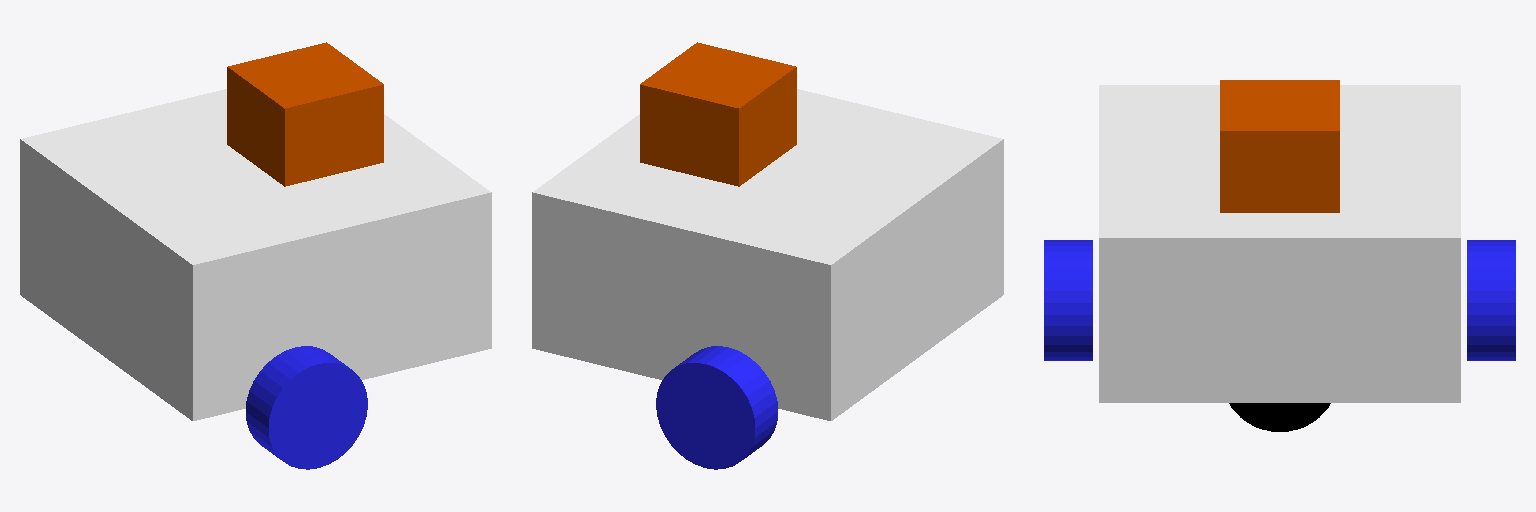
URDF robot description (robot):
<?xml version="1.0" ?>
<!-- =================================================================================== -->
<!-- |    This document was autogenerated by xacro from robot.urdf.xacro               | -->
<!-- |    EDITING THIS FILE BY HAND IS NOT RECOMMENDED                                 | -->
<!-- =================================================================================== -->
<robot name="robot">
  <!-- Specify some standard inertial calculations https://en.wikipedia.org/wiki/List_of_moments_of_inertia -->
  <!-- These make use of xacro's mathematical functionality -->
  <material name="white">
    <color rgba="1 1 1 1"/>
  </material>
  <material name="orange">
    <color rgba="1 0.3 0.1 1"/>
  </material>
  <material name="blue">
    <color rgba="0.2 0.2 1 1"/>
  </material>
  <material name="black">
    <color rgba="0 0 0 1"/>
  </material>
  <material name="red">
    <color rgba="1 0 0 1"/>
  </material>
  <!-- BASE LINK -->
  <link name="base_link">

    </link>
  <!-- CHASSIS LINK -->
  <joint name="chassis_joint" type="fixed">
    <parent link="base_link"/>
    <child link="chassis"/>
    <origin xyz="-0.1 0 0"/>
  </joint>
  <link name="chassis">
    <visual>
      <origin xyz="0.15 0 0.075"/>
      <geometry>
        <box size="0.3 0.3 0.15"/>
      </geometry>
      <material name="white"/>
    </visual>
    <collision>
      <origin xyz="0.15 0 0.075"/>
      <geometry>
        <box size="0.3 0.3 0.15"/>
      </geometry>
    </collision>
    <inertial>
      <origin rpy="0 0 0" xyz="0.15 0 0.075"/>
      <mass value="0.5"/>
      <inertia ixx="0.004687499999999999" ixy="0.0" ixz="0.0" iyy="0.004687499999999999" iyz="0.0" izz="0.0075"/>
    </inertial>
  </link>
  <gazebo reference="chassis">
    <material>Gazebo/White</material>
  </gazebo>
  <!-- LEFT WHEEL LINK -->
  <joint name="left_wheel_joint" type="continuous">
    <parent link="base_link"/>
    <child link="left_wheel"/>
    <origin rpy="-1.5707963267948966 0 0" xyz="0 0.175 0"/>
    <axis xyz="0 0 1"/>
  </joint>
  <link name="left_wheel">
    <visual>
      <geometry>
        <cylinder length="0.04" radius="0.05"/>
      </geometry>
      <material name="blue"/>
    </visual>
    <collision>
      <geometry>
        <cylinder length="0.04" radius="0.05"/>
      </geometry>
    </collision>
    <inertial>
      <origin rpy="0 0 0" xyz="0 0 0"/>
      <mass value="0.1"/>
      <inertia ixx="7.583333333333335e-05" ixy="0.0" ixz="0.0" iyy="7.583333333333335e-05" iyz="0.0" izz="0.00012500000000000003"/>
    </inertial>
  </link>
  <gazebo reference="left_wheel">
    <material>Gazebo/Blue</material>
  </gazebo>
  <!-- RIGHT WHEEL LINK -->
  <joint name="right_wheel_joint" type="continuous">
    <parent link="base_link"/>
    <child link="right_wheel"/>
    <origin rpy="1.5707963267948966 0 0" xyz="0 -0.175 0"/>
    <axis xyz="0 0 -1"/>
  </joint>
  <link name="right_wheel">
    <visual>
      <geometry>
        <cylinder length="0.04" radius="0.05"/>
      </geometry>
      <material name="blue"/>
    </visual>
    <collision>
      <geometry>
        <cylinder length="0.04" radius="0.05"/>
      </geometry>
    </collision>
    <inertial>
      <origin rpy="0 0 0" xyz="0 0 0"/>
      <mass value="0.1"/>
      <inertia ixx="7.583333333333335e-05" ixy="0.0" ixz="0.0" iyy="7.583333333333335e-05" iyz="0.0" izz="0.00012500000000000003"/>
    </inertial>
  </link>
  <gazebo reference="right_wheel">
    <material>Gazebo/Blue</material>
  </gazebo>
  <!-- CASTER WHEEL LINK -->
  <joint name="caster_wheel_joint" type="fixed">
    <parent link="chassis"/>
    <child link="caster_wheel"/>
    <origin xyz="0.24 0 0"/>
  </joint>
  <link name="caster_wheel">
    <visual>
      <geometry>
        <sphere radius="0.05"/>
      </geometry>
      <material name="black"/>
    </visual>
    <collision>
      <geometry>
        <sphere radius="0.05"/>
      </geometry>
    </collision>
    <inertial>
      <origin rpy="0 0 0" xyz="0 0 0"/>
      <mass value="0.1"/>
      <inertia ixx="0.00010000000000000005" ixy="0.0" ixz="0.0" iyy="0.00010000000000000005" iyz="0.0" izz="0.00010000000000000005"/>
    </inertial>
  </link>
  <gazebo reference="caster_wheel">
    <material>Gazebo/Black</material>
    <mu1 value="0.001"/>
    <mu2 value="0.001"/>
  </gazebo>
  
  <gazebo>
    <plugin name="gazebo_ros_control" filename="libgazebo_ros_control.so">
      <controlPeriod>0.001</controlPeriod>
      <legacyModeNS>false</legacyModeNS>
    </plugin>
  </gazebo>
<!--######################################################################-->
<gazebo>
      <plugin name="diff_drive_controller" filename="libgazebo_ros_diff_drive.so">
        <legacyMode>false</legacyMode>
        <alwaysOn>true</alwaysOn>
        <updateRate>1000.0</updateRate>
        <leftJoint>left_wheel_joint</leftJoint>
        <rightJoint>right_wheel_joint</rightJoint>
        <wheelSeparation>0.35</wheelSeparation>
        <wheelDiameter>0.1</wheelDiameter>
        <wheelTorque>10</wheelTorque>
        <publishTf>1</publishTf>
        <odometryFrame>map</odometryFrame>
        <commandTopic>cmd_vel</commandTopic>
        <odometryTopic>odom</odometryTopic>
        <robotBaseFrame>base_link</robotBaseFrame>
        <wheelAcceleration>2.8</wheelAcceleration>
        <publishWheelJointState>true</publishWheelJointState>
        <publishWheelTF>false</publishWheelTF>
        <odometrySource>world</odometrySource>
        <rosDebugLevel>Debug</rosDebugLevel>
        <publishOdomTF>true</publishOdomTF>
      </plugin>
</gazebo>
<!--######################################################################-->

<!--################################### Ultrasonic sensor joint###################################-->
    <joint name="sonar_front_joint" type="fixed">
    <origin rpy="0 0 0" xyz="0.2 0 0.175"/>
      <parent link="chassis"/>
      <child link="base_sonar_front"/>
  </joint>
<!--################################### Ultrasonic sensor link###################################-->
  <link name="base_sonar_front">
      <!-- <collision>
        <origin xyz="0 0 0" rpy="0 0 0"/>
        <geometry>
          <box size="0.5 0.5 0.5"/>
        </geometry>
      </collision> -->
      <visual>
        <origin xyz="0 0 0" rpy="0 0 0"/>
        <geometry>
          <box size="0.1 0.1 0.1"/>
        </geometry>
      </visual>
       <!-- <inertial>
        <mass value="1e-5" />
        <origin xyz="0 0 0" rpy="0 0 0"/>
        <inertia ixx="1e-6" ixy="0" ixz="0" iyy="1e-6" iyz="0" izz="1e-6" />
      </inertial> -->
   </link>
  
  
  <!--################################### Ultrasonic sensor gazebo ###################################-->
    <gazebo reference="base_sonar_front">
   <sensor type="ray" name="TeraRanger">
      <pose>0 0 0 0 0 0</pose>
      <visualize>true</visualize>
      <update_rate>5</update_rate>
      <ray>
        <!--Add noise
        <noise>
          <type>gaussian</type>
          <mean>0.0</mean>
          <stddev>1.0</stddev>
        </noise>
      -->
         <scan>
            <horizontal>
               <samples>10</samples>
               <resolution>1</resolution>
               <min_angle>-0.14835</min_angle>
               <max_angle>0.14835</max_angle>
            </horizontal>
            <vertical>
               <samples>10</samples>
               <resolution>1</resolution>
               <min_angle>-0.05</min_angle>
               <max_angle>0.14835</max_angle>
            </vertical>
         </scan>
         <range>
            <min>0.01</min>
            <max>5</max>
            <resolution>0.02</resolution>
         </range>
      </ray>
      <plugin filename="libgazebo_ros_range.so" name="gazebo_ros_range">
         <gaussianNoise>0.05</gaussianNoise>
         <alwaysOn>true</alwaysOn>
         <updateRate>5</updateRate>
         <topicName>sensor/sonar_front</topicName>
         <frameName>base_sonar_front</frameName>
         <radiation>INFRARED</radiation>
         <fov>0.2967</fov>
      </plugin>
   </sensor>
   </gazebo>
<!--######################################################################-->
</robot>

--- What the picture shows (computed from the rendered views, not written in the file) ---
3 views of the same robot in one strip: view 1: azimuth 30°, elevation 25°; view 2: azimuth 150°, elevation 25°; view 3: azimuth 270°, elevation 25° (orthographic).
Model robot with 6 links and 5 joints (2 continuous, 3 fixed), rooted at base_link, posed all joints at 0.
Links seen in each view (by area): view 1: chassis, base_sonar_front, right_wheel; view 2: chassis, base_sonar_front, left_wheel; view 3: chassis, base_sonar_front, left_wheel, right_wheel, caster_wheel.
Boxes of the visible links, x1,y1,x2,y2 form: chassis: [20, 89, 491, 420]; base_sonar_front: [227, 42, 383, 186]; right_wheel: [246, 346, 367, 469]; chassis: [532, 89, 1003, 420]; base_sonar_front: [640, 42, 796, 186]; left_wheel: [656, 346, 777, 469]; chassis: [1099, 85, 1460, 402]; base_sonar_front: [1220, 80, 1339, 212]; left_wheel: [1467, 240, 1515, 360]; right_wheel: [1044, 240, 1092, 360]; caster_wheel: [1229, 403, 1330, 431].
Bounding box of the posed robot: 0.3 × 0.39 × 0.275 m (x, y, z).
Geometry: primitives only (box / cylinder / sphere), no mesh files.
